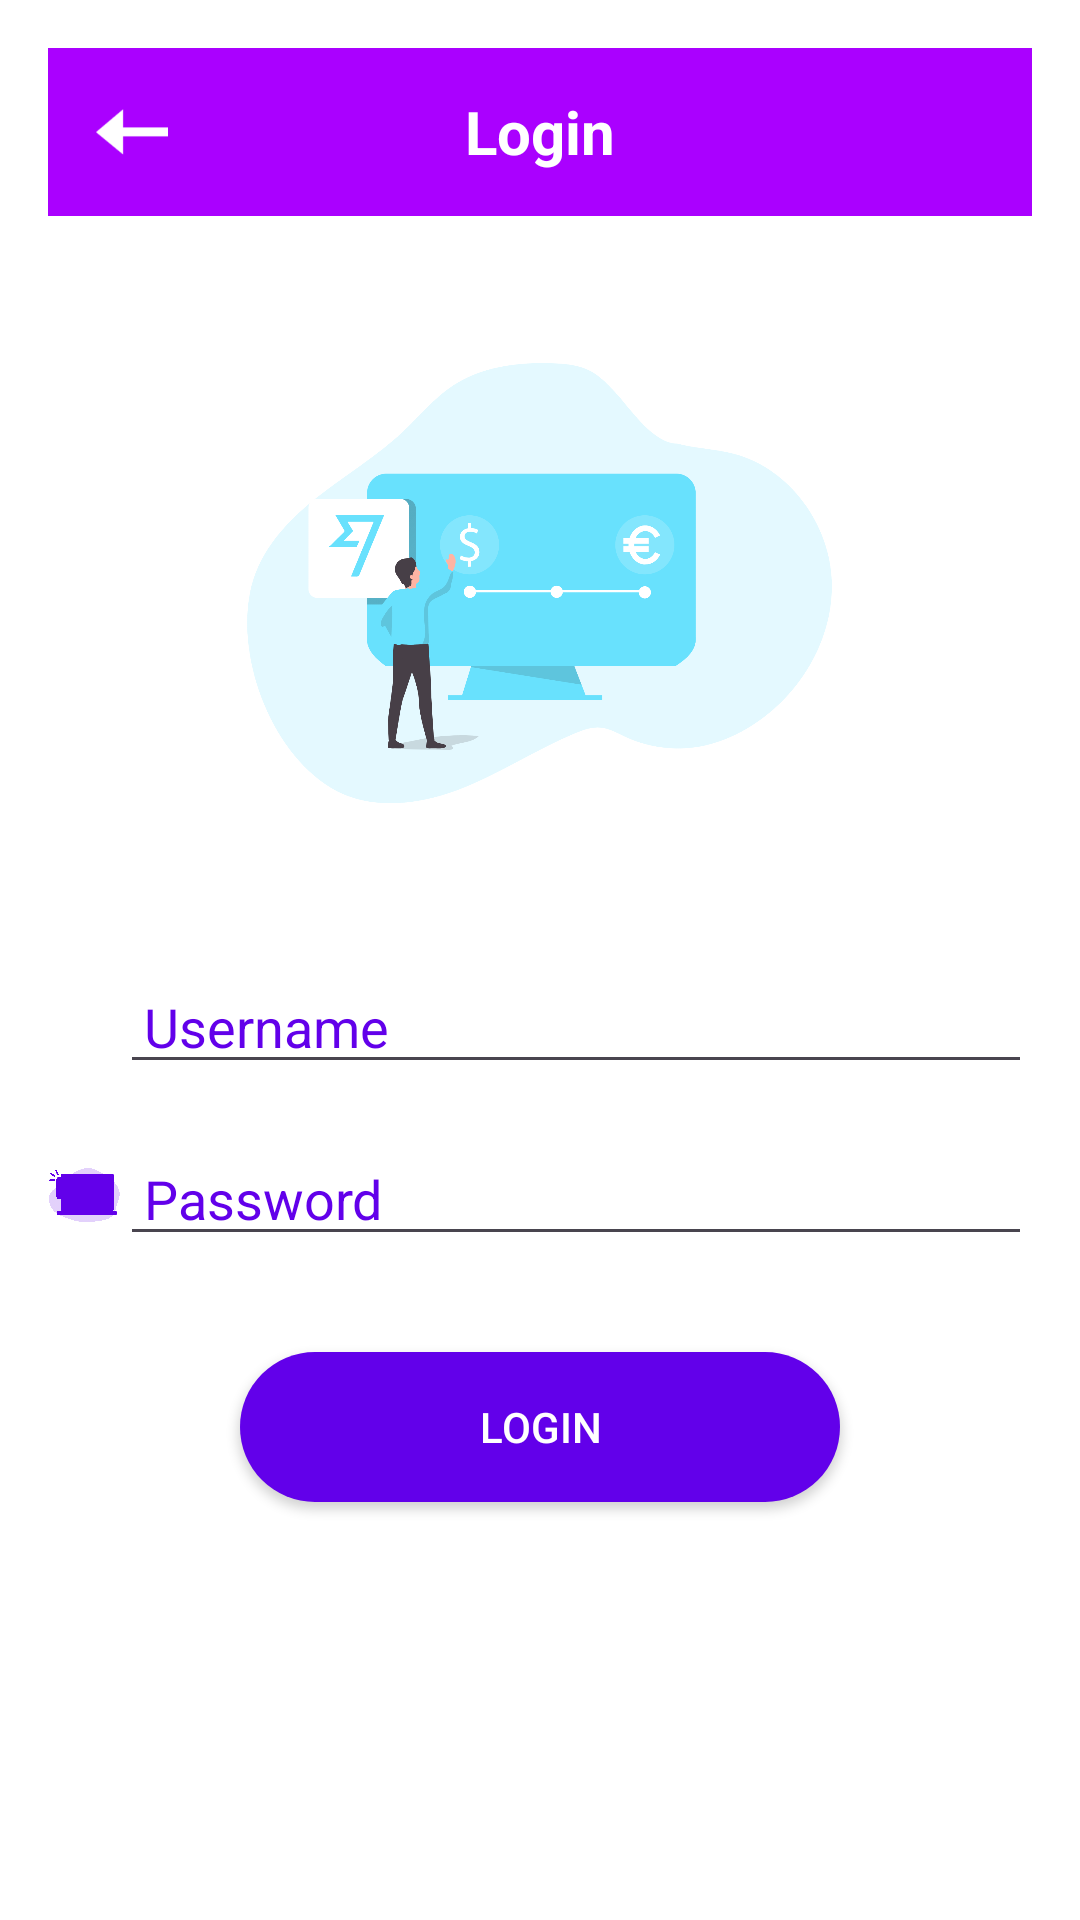

Named icons in this screenshot (1080 x 1920) and their bounding boxes, (x1, y1, x2, y2):
Back Button: (96, 109, 168, 154)
